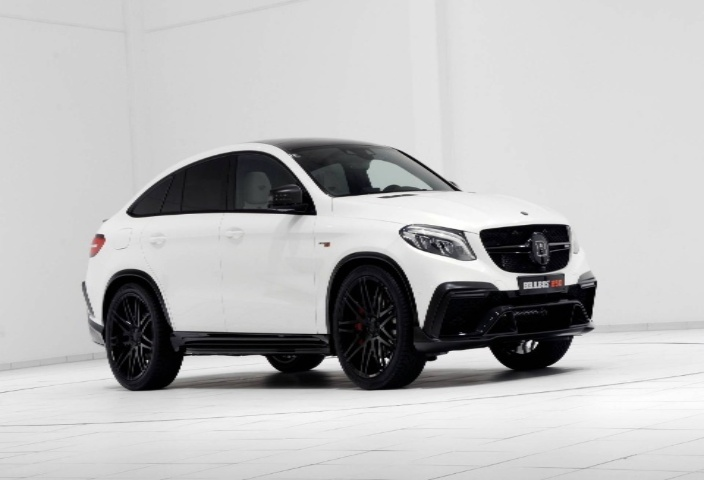camper: (29, 122, 615, 407)
